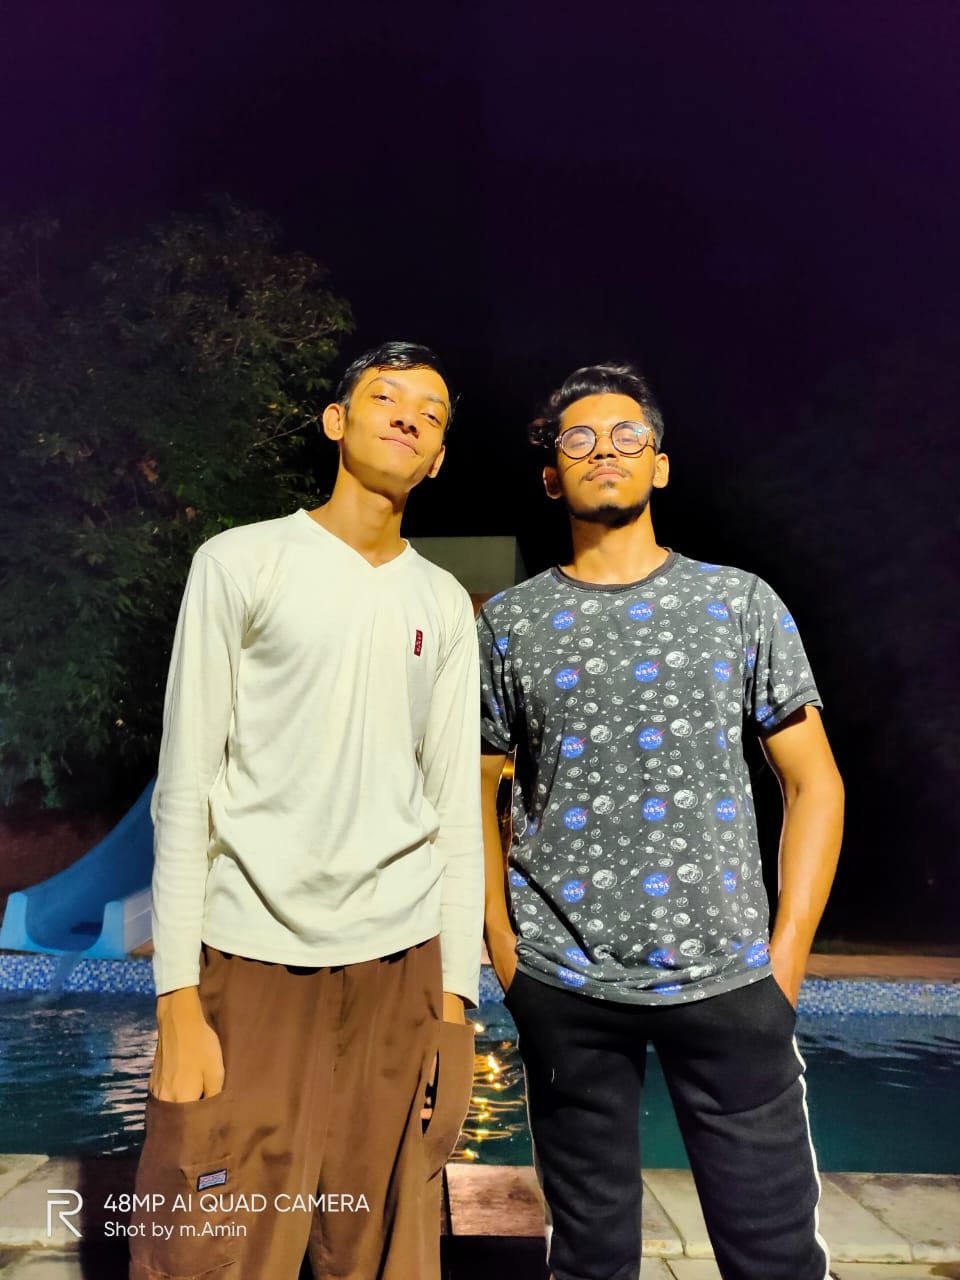NoMask: (360, 373, 448, 490), (562, 414, 652, 520)
